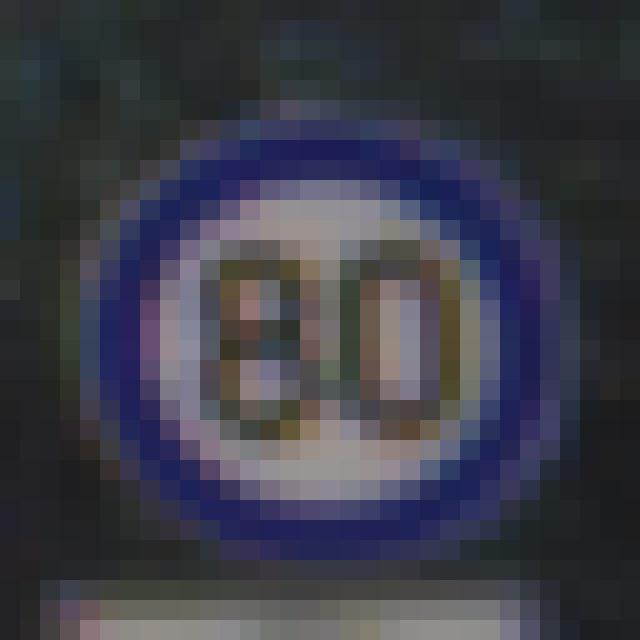SPEED-LIMIT-80: (87, 137, 562, 555)
